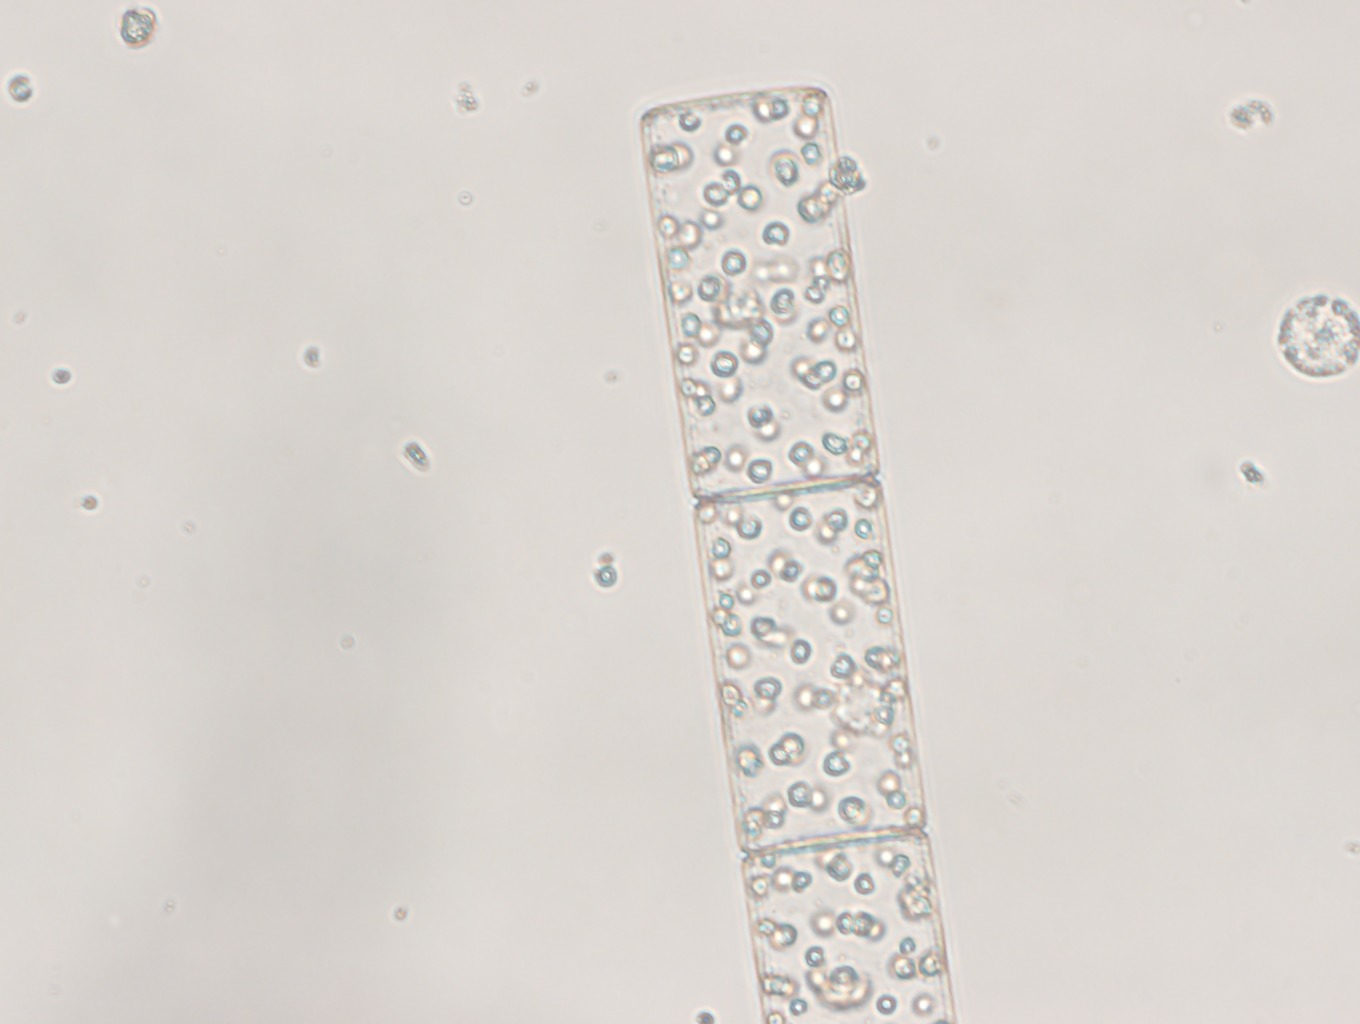guinardia flaccida: (639, 87, 953, 1024)
